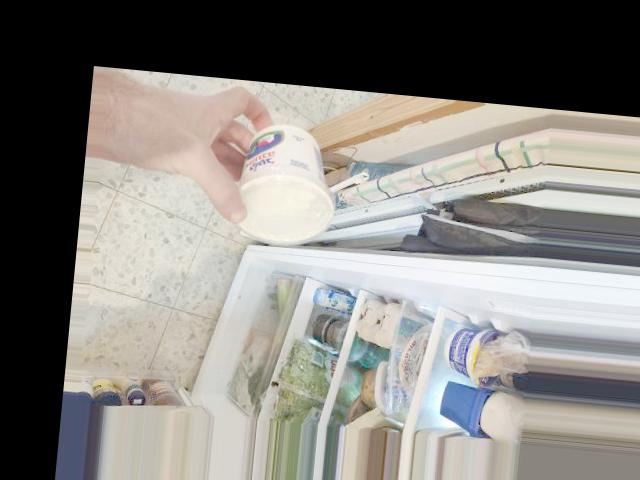cotage: (220, 113, 340, 245)
